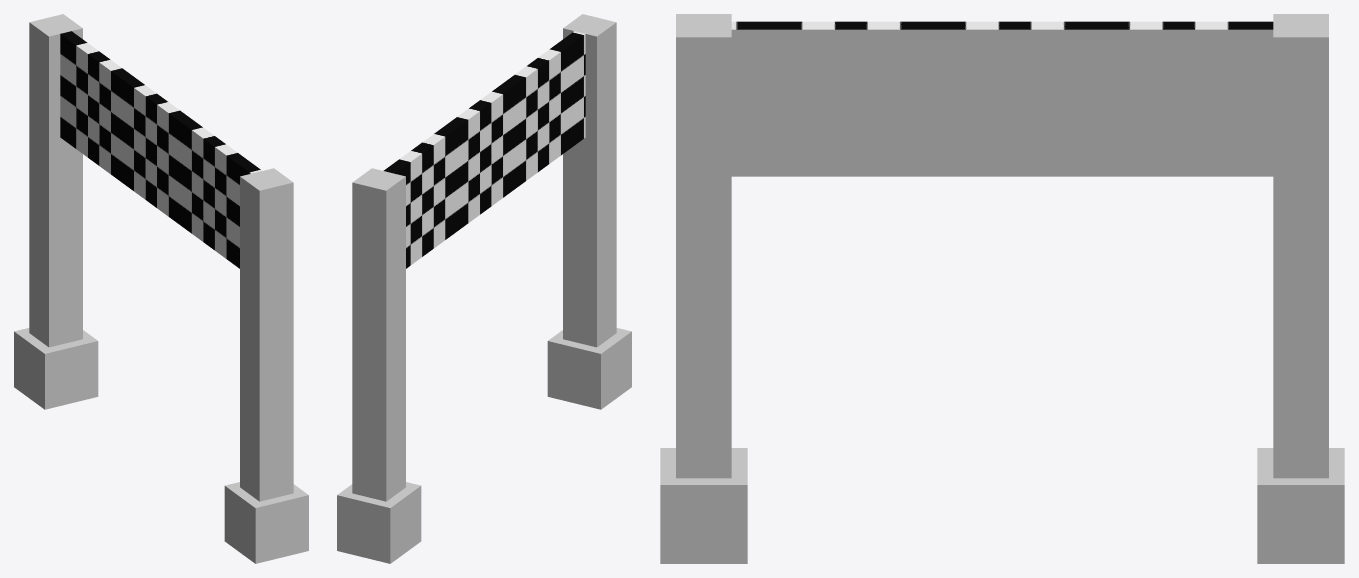
File: Start banner.fbx
3 renders of one model, left to right at view 1: azimuth 30°, elevation 25°; view 2: azimuth 150°, elevation 25°; view 3: azimuth 270°, elevation 25°, orthographic. The views are drawn at different scales.
Visible parts, largest first — view 1: Start gate; view 2: Start gate; view 3: Start gate.
Boxes of the visible parts, bbox=[...] form: Start gate: bbox=[14, 14, 308, 563]; Start gate: bbox=[337, 14, 631, 563]; Start gate: bbox=[660, 14, 1344, 563].
Bounding box in the file's own units: 49.95 × 328 × 392.
